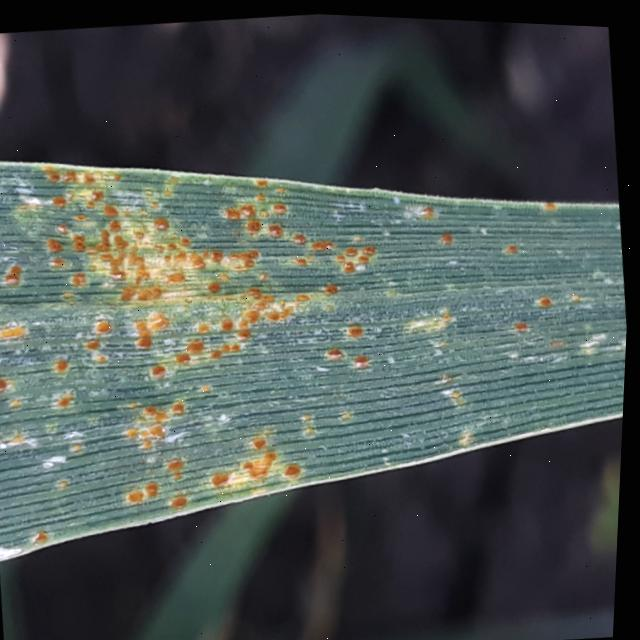orang_rust: (0, 70, 638, 608)
